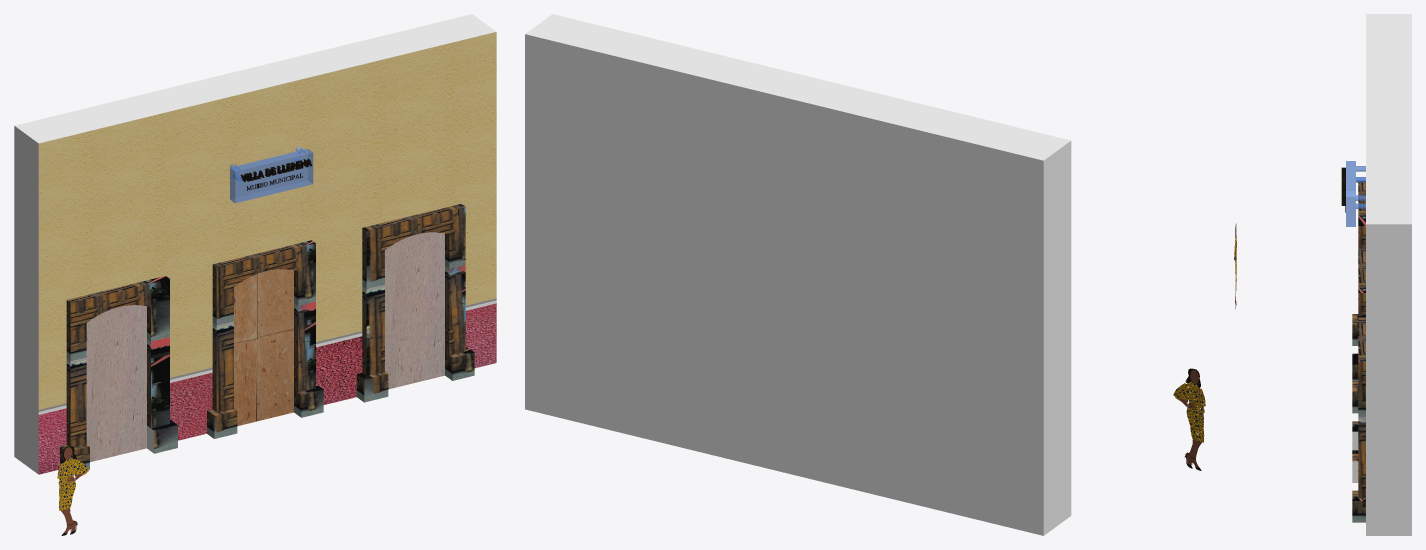
Rendered from Museo.fbx.
3 views of the same model, side by side, from view 1: azimuth 30°, elevation 25°; view 2: azimuth 150°, elevation 25°; view 3: azimuth 270°, elevation 25° (orthographic). The views are drawn at different scales.
Parts seen in each view (by area): view 1: Model, Sumele1, VILLA_DE_LLERENA1; view 2: Model, Sumele1; view 3: Model.
Part boxes in pixels (x1=…): Model: x1=14, y1=14, x2=496, y2=474; Sumele1: x1=57, y1=446, x2=88, y2=535; VILLA_DE_LLERENA1: x1=240, y1=158, x2=312, y2=182; Model: x1=525, y1=14, x2=1071, y2=535; Sumele1: x1=1173, y1=368, x2=1205, y2=470; Model: x1=1346, y1=14, x2=1411, y2=535.
Bounding box in the file's own units: 9.89 × 6.16 × 3.19.
